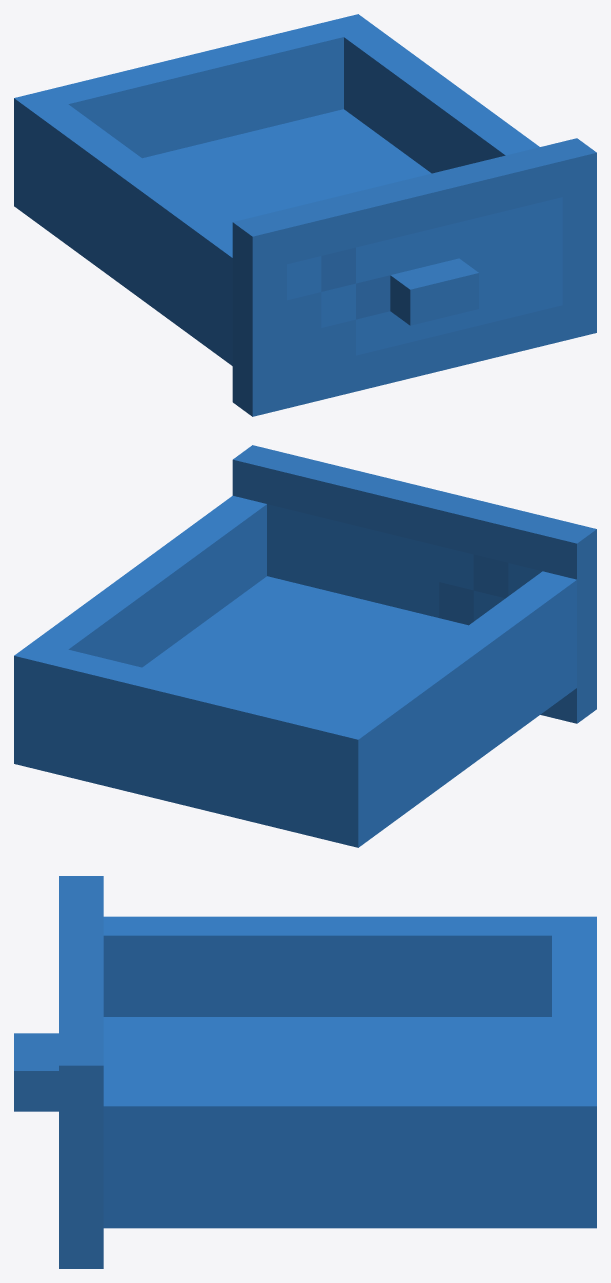
The model's file is Kitchen_cabinets-13.obj.
3 renders of one model, top to bottom at view 1: azimuth 30°, elevation 25°; view 2: azimuth 150°, elevation 25°; view 3: azimuth 270°, elevation 25°, orthographic. The views are drawn at different scales.
Bounding box in the file's own units: 1 × 0.5 × 1.3.
1 material, 1 textured.
